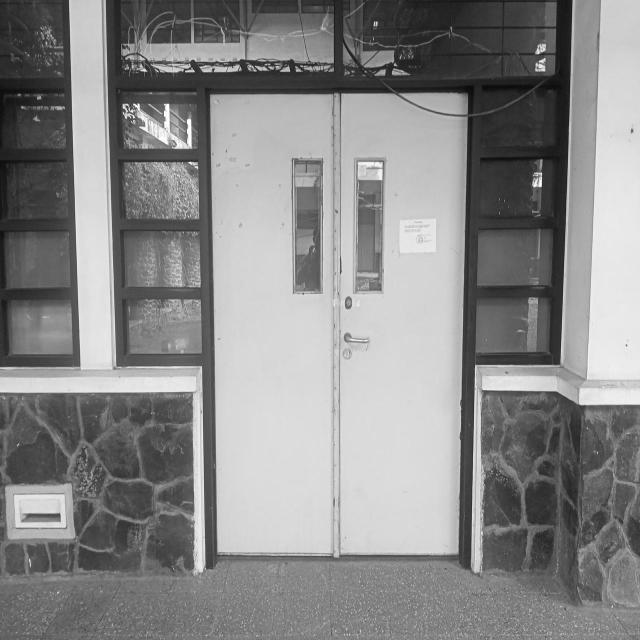door: (200, 75, 480, 562)
